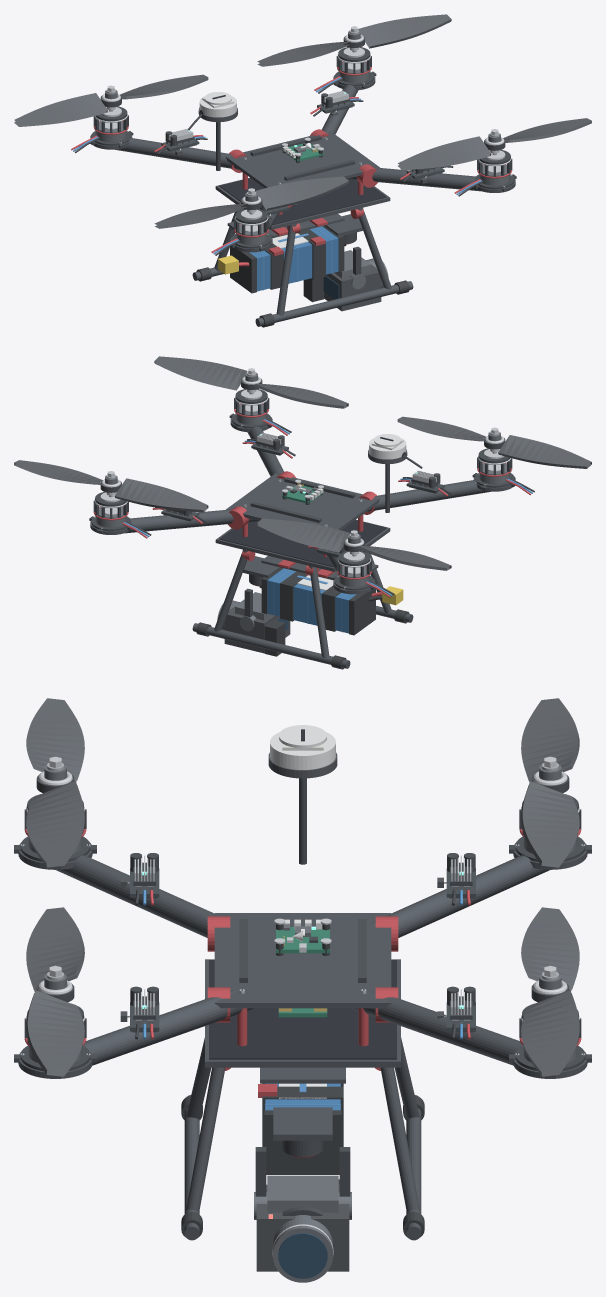
Rendered from eduquad650_reference.glb.
The picture shows the model from 3 angles, top to bottom: view 1: azimuth 30°, elevation 25°; view 2: azimuth 150°, elevation 25°; view 3: azimuth 270°, elevation 25°; orthographic projection. The views are drawn at different scales.
Parts seen in each view (by area): view 1: frame/top_plate, frame/bottom_edge, battery/body, prop/M4/blade_1, prop/M2/blade_1, prop/M1/blade_0, prop/M3/blade_0, frame/arm_M4, frame/arm_M2, frame/rail_right, payload/camera_body, prop/M1/blade_1 (+13 smaller); view 2: frame/top_plate, frame/bottom_edge, battery/body, prop/M1/blade_1, prop/M3/blade_1, prop/M2/blade_0, prop/M4/blade_0, frame/arm_M3, frame/arm_M1, frame/rail_left, prop/M2/blade_1, prop/M4/blade_1 (+13 smaller); view 3: frame/top_plate, frame/bottom_edge, prop/M1/blade_0, prop/M2/blade_0, prop/M3/blade_0, prop/M4/blade_0, frame/arm_M4, frame/arm_M3, frame/arm_M2, prop/M2/blade_1, prop/M1/blade_1, prop/M3/blade_1 (+21 smaller).
Part boxes in pixels (x1,y1,x2,y2): frame/top_plate: (226, 131, 379, 188); frame/bottom_edge: (219, 178, 386, 225); battery/body: (249, 226, 338, 291); prop/M4/blade_1: (14, 93, 107, 126); prop/M2/blade_1: (398, 136, 491, 170); prop/M1/blade_0: (358, 14, 451, 48); prop/M3/blade_0: (255, 176, 348, 210); frame/arm_M4: (115, 138, 247, 169); frame/arm_M2: (347, 166, 481, 191); frame/rail_right: (255, 281, 413, 326); payload/camera_body: (324, 257, 381, 311); prop/M1/blade_1: (257, 41, 350, 66); frame/top_plate: (226, 473, 379, 530); frame/bottom_edge: (219, 520, 386, 567); battery/body: (267, 568, 356, 633); prop/M1/blade_1: (114, 478, 208, 512); prop/M3/blade_1: (498, 435, 591, 468); prop/M2/blade_0: (154, 356, 247, 390); prop/M4/blade_0: (257, 518, 350, 552); frame/arm_M3: (358, 480, 490, 511); frame/arm_M1: (124, 508, 258, 533); frame/rail_left: (192, 623, 350, 668); prop/M2/blade_1: (255, 383, 348, 408); prop/M4/blade_1: (357, 546, 451, 570); frame/top_plate: (214, 913, 391, 1008); frame/bottom_edge: (209, 960, 396, 1059); prop/M1/blade_0: (521, 990, 579, 1076); prop/M2/blade_0: (26, 990, 84, 1076); prop/M3/blade_0: (26, 781, 84, 867); prop/M4/blade_0: (521, 781, 579, 867); frame/arm_M4: (368, 855, 549, 937); frame/arm_M3: (56, 855, 237, 937); frame/arm_M2: (83, 989, 254, 1065); prop/M2/blade_1: (26, 907, 84, 991); prop/M1/blade_1: (521, 907, 579, 990); prop/M3/blade_1: (26, 698, 84, 782).
Bounding box in the file's own units: 0.8178 × 0.4246 × 0.5368.
